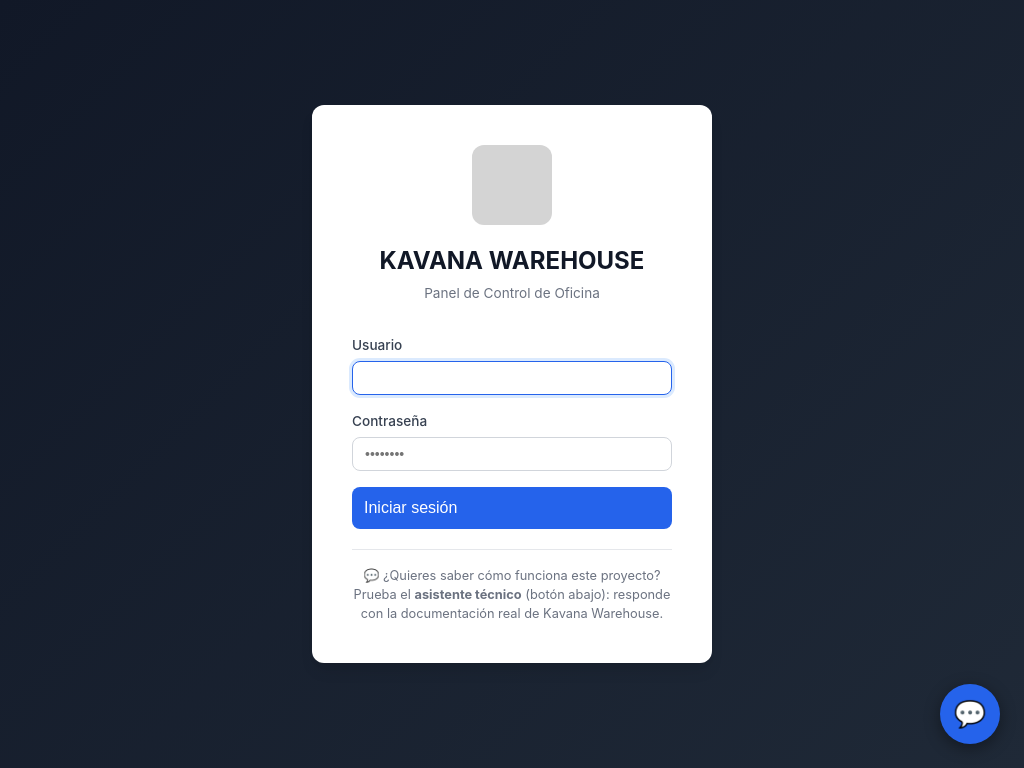
Scenario: Login › muestra error si las credenciales son inválidas
Type "warehouse" into the field labelled "Usuario".
click(512, 378); type("warehouse")  # box [352, 361, 672, 395]
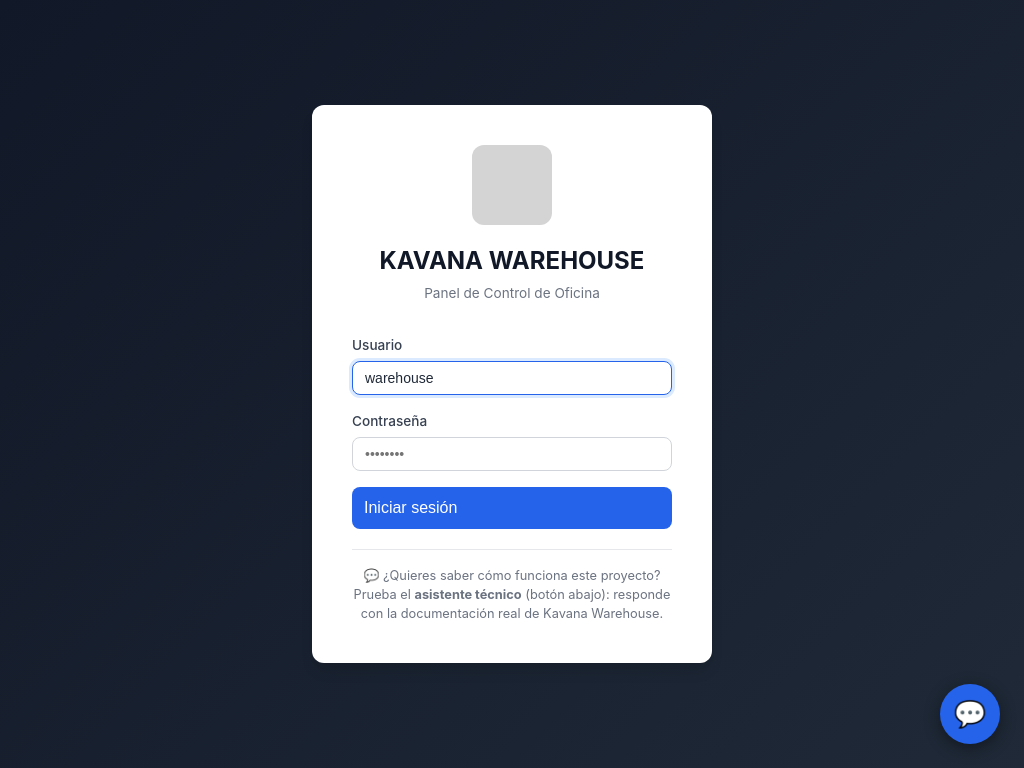
Type "mala" into the password field labelled "Contraseña".
click(512, 454); type("mala")  # box [352, 437, 672, 471]
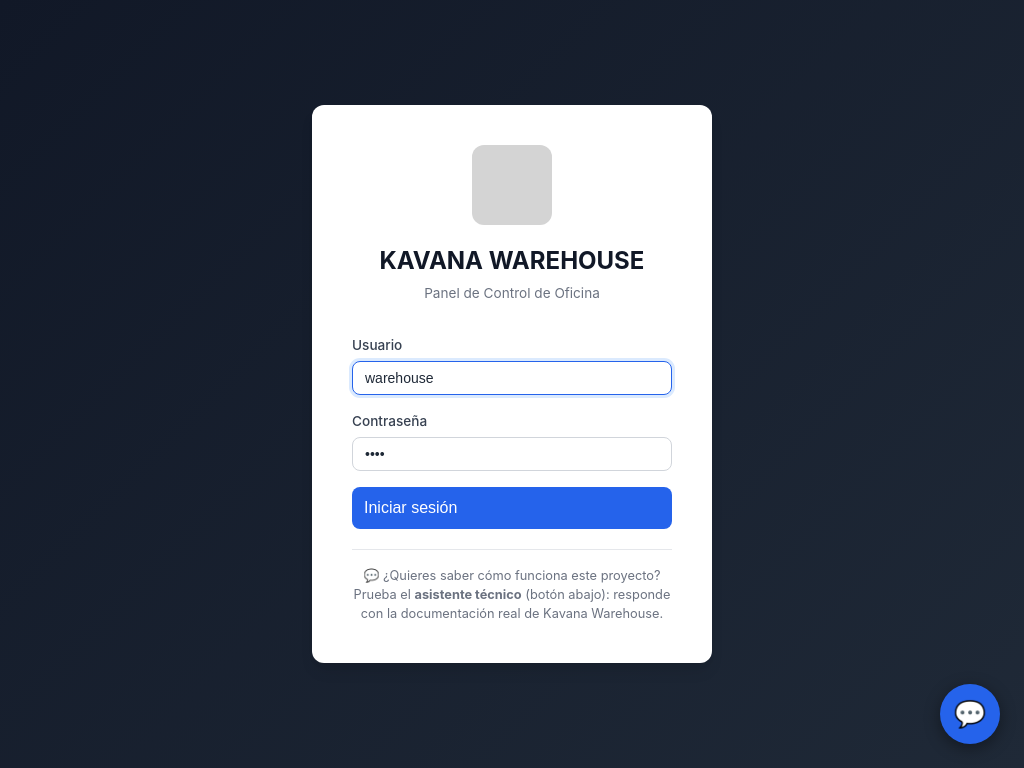
Click the button "Iniciar sesión".
click(411, 507)  # box [352, 487, 672, 529]
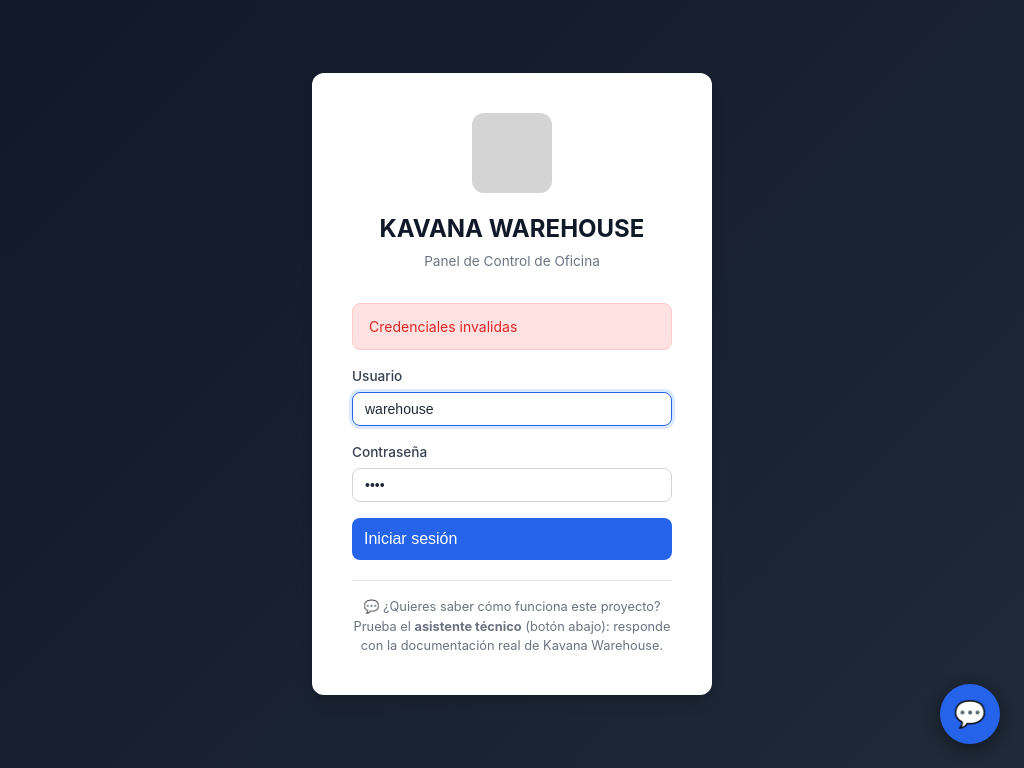
expect the text "Credenciales invalidas" is shown: met, box [352, 303, 672, 350]
